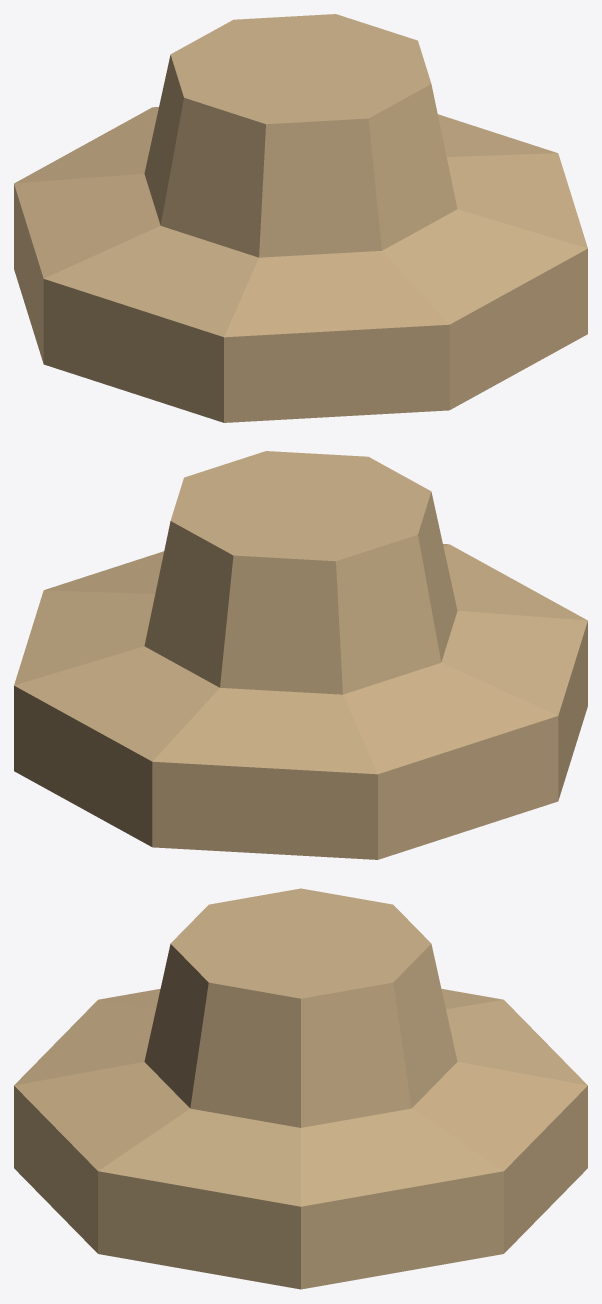
File: prop-inkhorn-lid-blank.fbx
The picture shows the model from 3 angles, top to bottom: view 1: azimuth 30°, elevation 25°; view 2: azimuth 150°, elevation 25°; view 3: azimuth 270°, elevation 25°; orthographic projection. The views are drawn at different scales.
Parts seen in each view (by area): view 1: prop-inkhorn-lid-blank; view 2: prop-inkhorn-lid-blank; view 3: prop-inkhorn-lid-blank.
Part boxes in pixels (x1=…): prop-inkhorn-lid-blank: x1=14, y1=14, x2=587, y2=422; prop-inkhorn-lid-blank: x1=14, y1=451, x2=587, y2=859; prop-inkhorn-lid-blank: x1=14, y1=888, x2=587, y2=1289.
Size of the model in its own units: 4.4 by 1.9 by 4.4.
